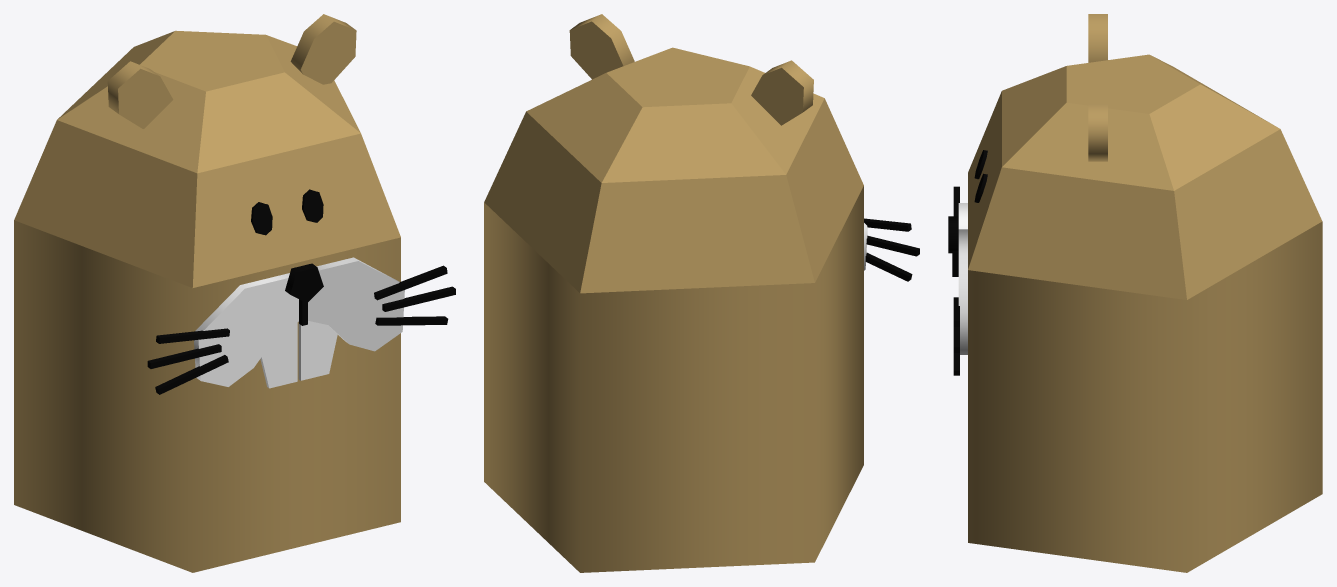
Rendered from mole.fbx.
3 views of the same model, side by side, from view 1: azimuth 30°, elevation 25°; view 2: azimuth 150°, elevation 25°; view 3: azimuth 270°, elevation 25° (orthographic). The views are drawn at different scales.
Parts seen in each view (by area): view 1: Cone001, Cone004, Cone003, Cylinder006, Cylinder004, Box009, Box008, Cylinder001, Box002, Box004, Box003, Box006 (+4 smaller); view 2: Cone001, Cylinder006, Cylinder004; view 3: Cone001, Cone003, Cylinder006, Cylinder004.
Boxes of the visible parts, box(x1,y1,x2,y2) form: Cone001: box(14, 30, 400, 572); Cone004: box(194, 273, 298, 386); Cone003: box(308, 257, 404, 351); Cylinder006: box(290, 14, 356, 84); Cylinder004: box(107, 61, 173, 128); Box009: box(298, 321, 337, 380); Box008: box(260, 322, 297, 388); Cylinder001: box(285, 263, 323, 302); Box002: box(155, 355, 228, 394); Box004: box(374, 265, 447, 300); Box003: box(147, 344, 221, 368); Box006: box(382, 286, 455, 311); Cone001: box(484, 47, 863, 572); Cylinder006: box(569, 14, 634, 79); Cylinder004: box(751, 60, 813, 125); Cone001: box(968, 54, 1322, 572); Cone003: box(958, 229, 967, 354); Cylinder006: box(1088, 104, 1107, 161); Cylinder004: box(1088, 14, 1107, 62).
Bounding box in the file's own units: 47.55 × 61.44 × 47.71.
